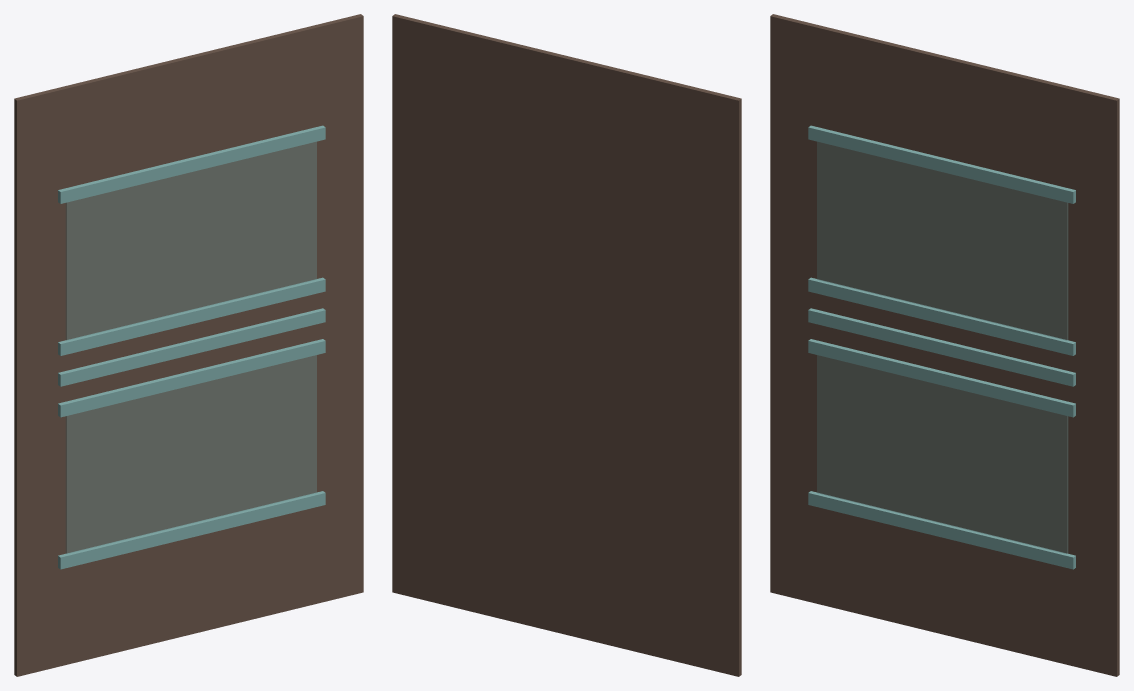
3 renders of one model, left to right at view 1: azimuth 30°, elevation 25°; view 2: azimuth 150°, elevation 25°; view 3: azimuth 330°, elevation 25°, orthographic.
Visible parts, largest first — view 1: exterior-door-leaf, glass-panel-2, glass-panel-1, glass-panel-mid-rail, glass-panel-1-top, glass-panel-2-top, glass-panel-2-bottom, glass-panel-1-bottom; view 2: exterior-door-leaf; view 3: exterior-door-leaf, glass-panel-2, glass-panel-1, glass-panel-mid-rail, glass-panel-1-top, glass-panel-2-top, glass-panel-2-bottom, glass-panel-1-bottom.
Part boxes in pixels (x1,y1,x2,y2): exterior-door-leaf: (14,14,363,676); glass-panel-2: (66,355,316,553); glass-panel-1: (66,142,316,340); glass-panel-mid-rail: (58,308,325,386); glass-panel-1-top: (58,125,325,203); glass-panel-2-top: (58,339,325,417); glass-panel-2-bottom: (58,491,325,569); glass-panel-1-bottom: (58,277,325,355); exterior-door-leaf: (392,14,741,676); exterior-door-leaf: (770,14,1119,676); glass-panel-2: (817,355,1067,553); glass-panel-1: (817,142,1067,340); glass-panel-mid-rail: (808,308,1075,386); glass-panel-1-top: (808,125,1075,203); glass-panel-2-top: (808,339,1075,417); glass-panel-2-bottom: (808,491,1075,569); glass-panel-1-bottom: (808,277,1075,355).
Size of the model in its own units: 1.36 by 2.16 by 0.038.
